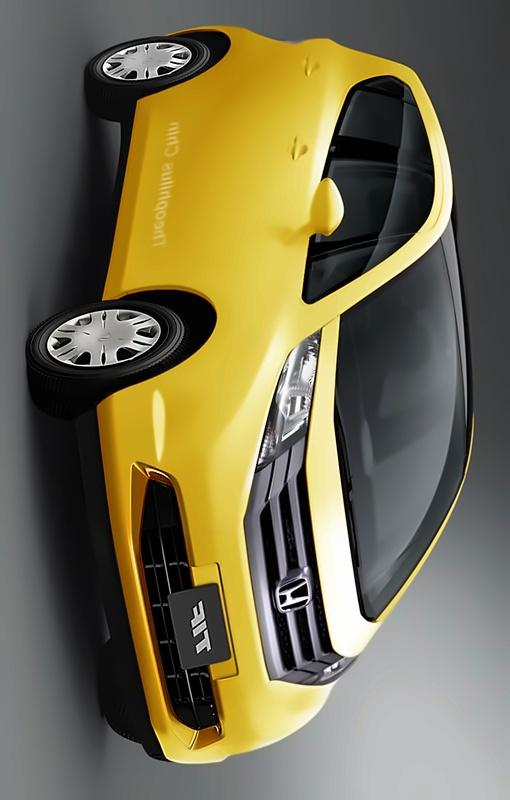Car hood: (291, 311, 374, 691)
Driver-s door - -F-R-: (104, 131, 457, 311)
Front bumper: (89, 384, 273, 763)
Passenger-s door - -R-R-: (115, 31, 470, 159)
Side mirror - -R-: (303, 175, 346, 240)
